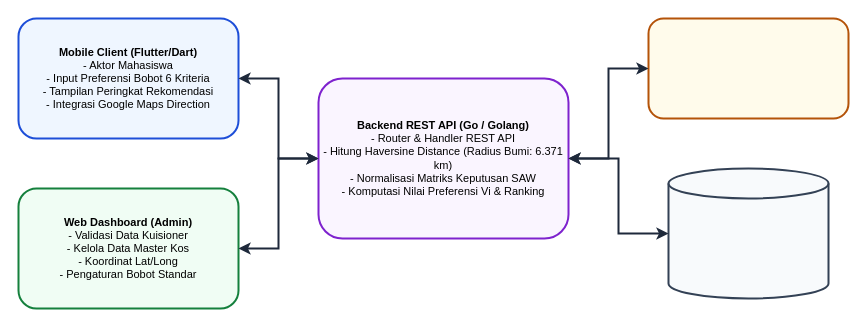
The diagram is 866 pixels wide and 326 high, and some of its shapes have lost their labels. Each missing label, with the centre of its shape:
"Database MySQL - tb_kos, tb_kriteria - tb_bobot, tb_rekomendasi" belongs at point 748,233.
"Google Maps API - Reverse Geocoding - Titik Koordinat Kampus & Kos" belongs at point 748,68.
